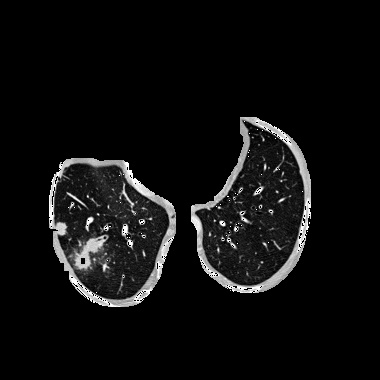PN: (55, 223, 67, 235)
